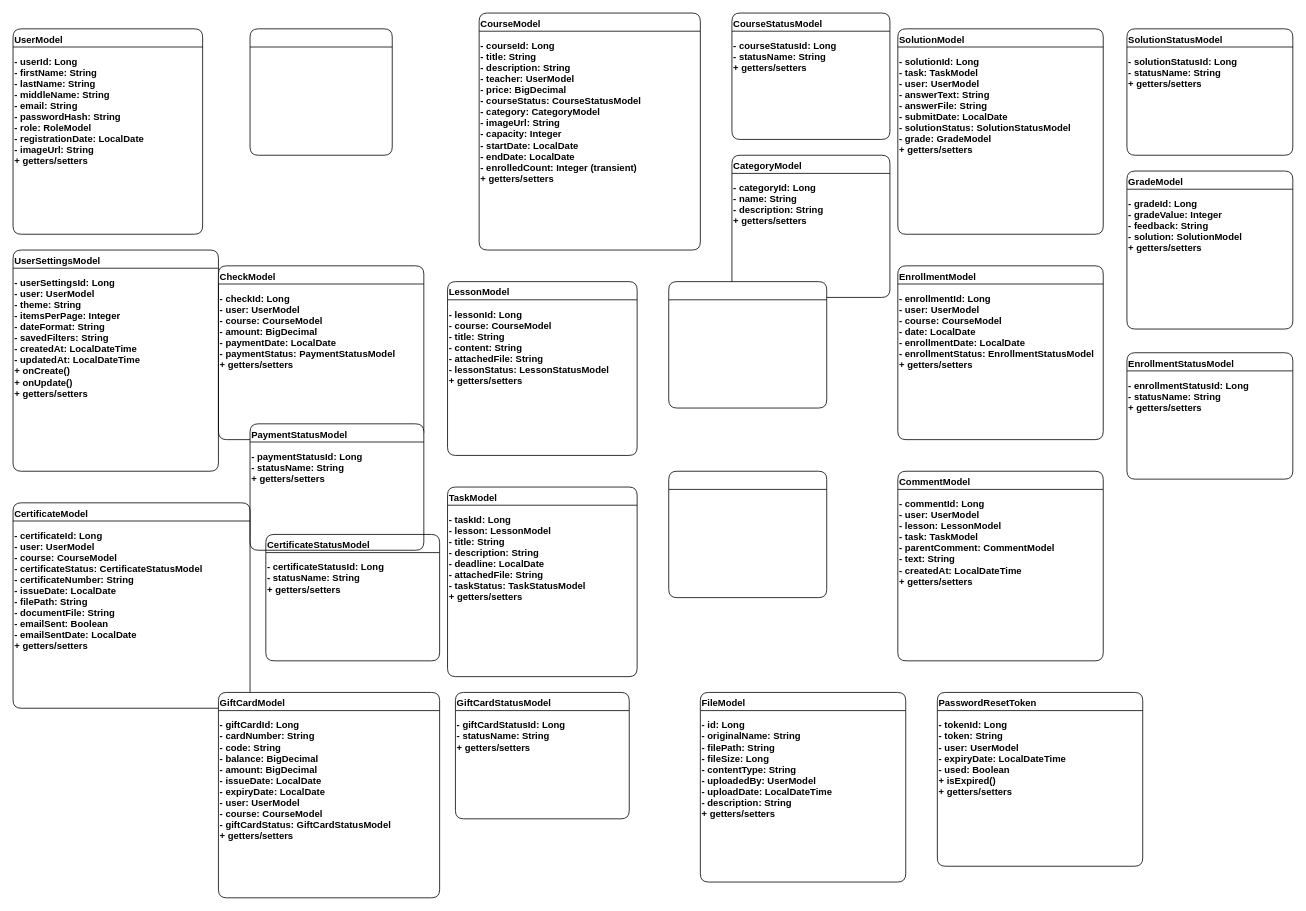
Image size: 1306x911. Some labels were removed from this diagram. Here are the shapes that lost their labels. From the top down, the box of each, then its label:
(249, 28, 392, 155): RoleModel - roleId: Long - roleName: String + getters/setters
(668, 281, 827, 408): LessonStatusModel - lessonStatusId: Long - statusName: String + getters/setters
(668, 470, 827, 598): TaskStatusModel - taskStatusId: Long - statusName: String + getters/setters
